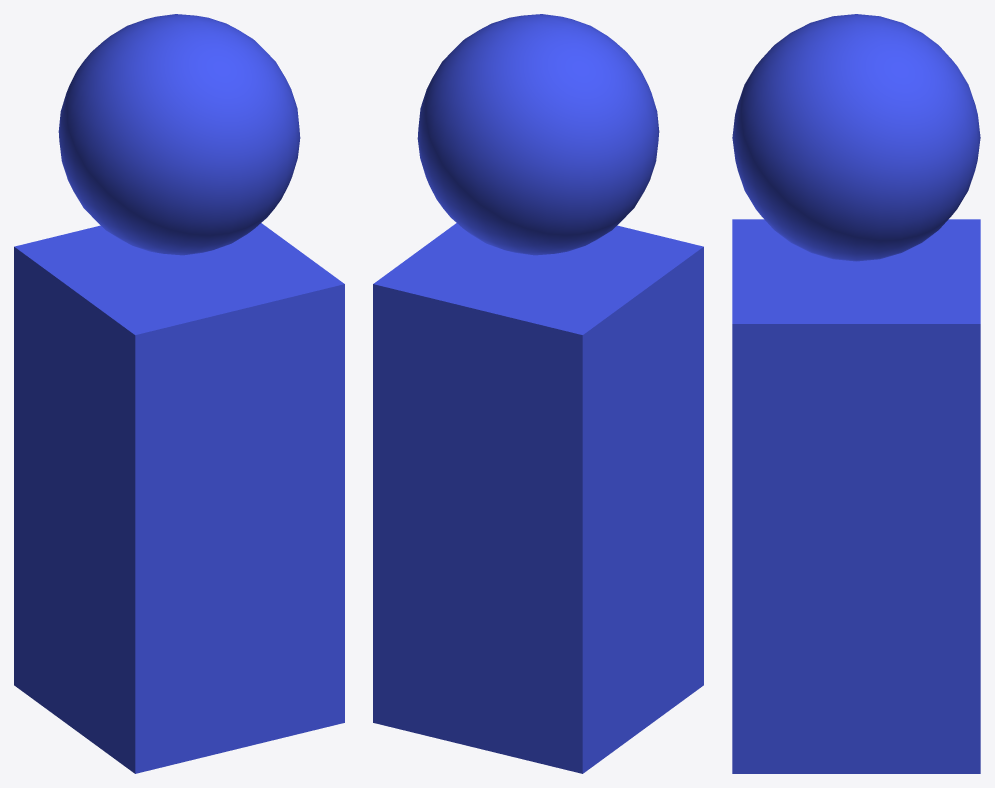
The model's file is Avatar2.glb.
The picture shows the model from 3 angles, left to right: view 1: azimuth 30°, elevation 25°; view 2: azimuth 150°, elevation 25°; view 3: azimuth 270°, elevation 25°; orthographic projection. The views are drawn at different scales.
Parts seen in each view (by area): view 1: Body, Head; view 2: Body, Head; view 3: Body, Head.
Boxes of the visible parts, x1,y1,x2,y2 form: Body: (14, 223, 344, 773); Head: (58, 14, 300, 255); Body: (373, 223, 703, 773); Head: (417, 14, 659, 255); Body: (732, 219, 980, 773); Head: (732, 14, 980, 261).
Size of the model in its own units: 1 by 3.09 by 1.
